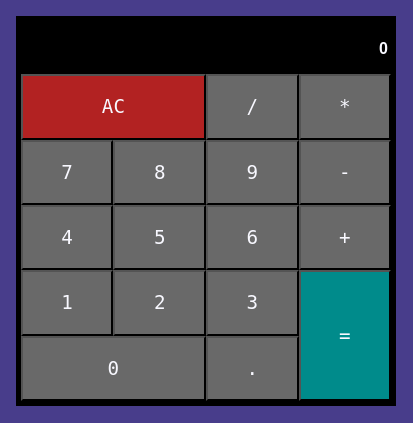
Test: should update the display when the decimal button is clicked
Click the button "." at (252, 368), box x1=206 y1=336 x2=299 y2=401
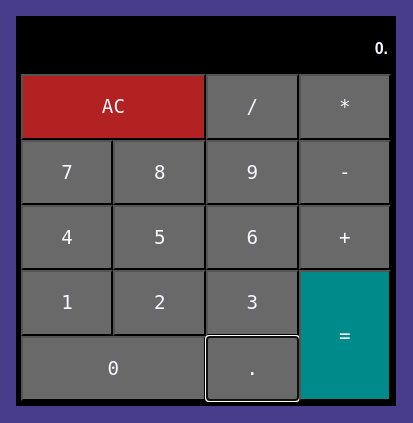
Check: the text with test id "display" reads "0.", box x1=375 y1=40 x2=388 y2=57
